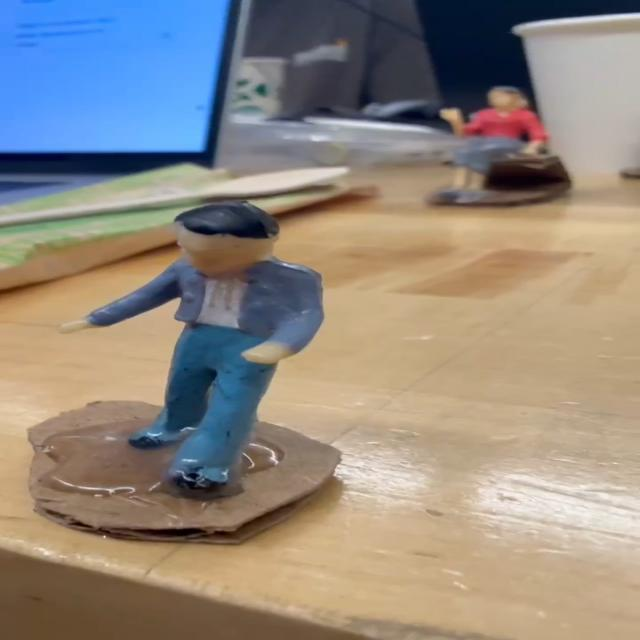Authorized: (70, 205, 322, 492)
